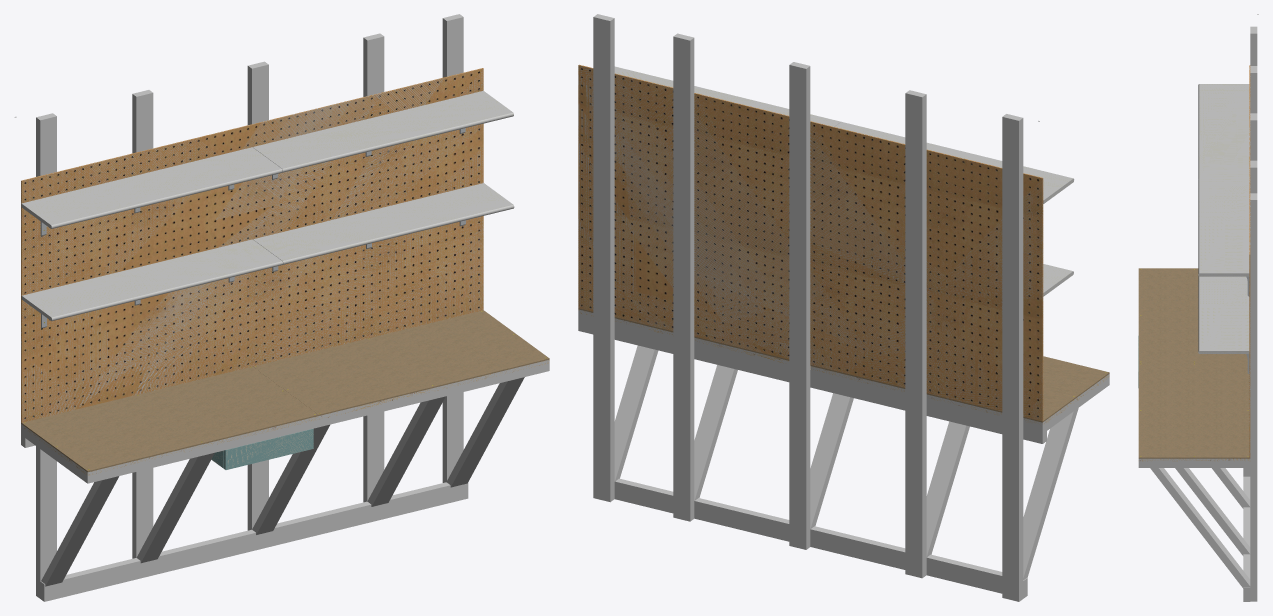
Rendered from pegboard.dae.
3 views of the same model, side by side, from view 1: azimuth 30°, elevation 25°; view 2: azimuth 150°, elevation 25°; view 3: azimuth 270°, elevation 25° (orthographic). The views are drawn at different scales.
Parts seen in each view (by area): view 1: peg_board, _3.5__x_1.5__stud (×12), hardboard_shelf (×4), _1_4__table_top (×2), _2_x_4__x_3_4__sheet_plywood (×2), SketchUp; view 2: peg_board, _3.5__x_1.5__stud (×12), hardboard_shelf (×2), _1_4__table_top, _2_x_4__x_3_4__sheet_plywood (×2); view 3: _1_4__table_top (×2), hardboard_shelf (×3), _3.5__x_1.5__stud (×10), peg_board, _2_x_4__x_3_4__sheet_plywood.
Boxes of the visible parts, x1,y1,x2,y2 form: peg_board: [21, 68, 483, 422]; _3.5__x_1.5__stud (×12): [36, 17, 549, 601]; hardboard_shelf (×4): [21, 91, 514, 321]; _1_4__table_top (×2): [21, 310, 549, 472]; _2_x_4__x_3_4__sheet_plywood (×2): [21, 359, 549, 475]; SketchUp: [223, 428, 313, 469]; peg_board: [578, 64, 1043, 421]; _3.5__x_1.5__stud (×12): [578, 17, 1078, 601]; hardboard_shelf (×2): [614, 66, 1074, 203]; _1_4__table_top: [810, 356, 1109, 422]; _2_x_4__x_3_4__sheet_plywood (×2): [578, 309, 1109, 426]; _1_4__table_top (×2): [1138, 268, 1250, 458]; hardboard_shelf (×3): [1198, 84, 1249, 353]; _3.5__x_1.5__stud (×10): [1150, 33, 1257, 601]; peg_board: [1249, 65, 1250, 457]; _2_x_4__x_3_4__sheet_plywood: [1138, 458, 1250, 461].
Size of the model in its own units: 96.43 by 25.78 by 96.
